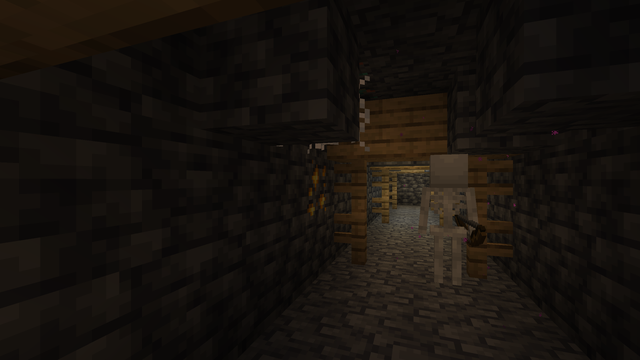squelettes: (425, 154, 472, 293)
